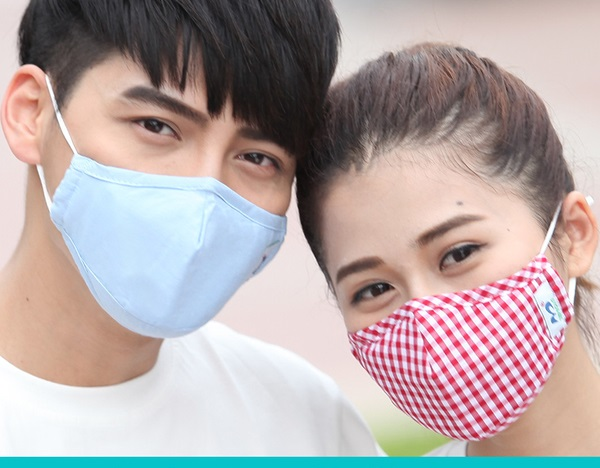face_mask: (47, 33, 303, 338), (328, 157, 562, 440)
